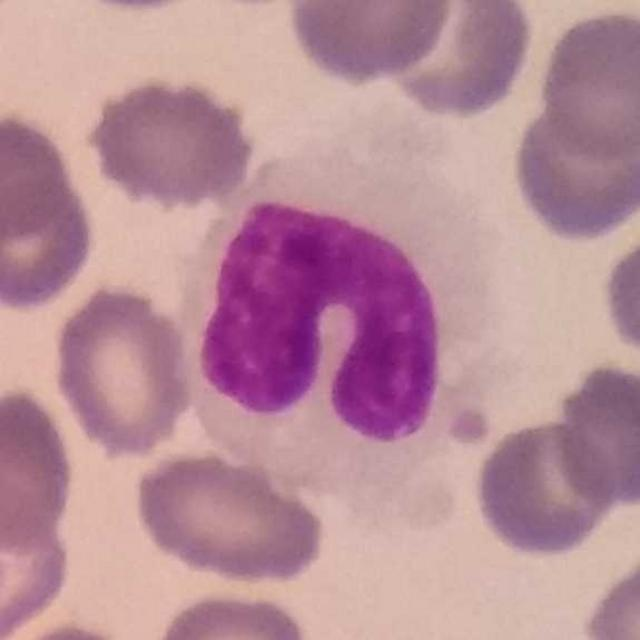Monocyte: (186, 123, 489, 516)
Platelets: (439, 399, 504, 457)
RBC: (129, 446, 331, 588), (49, 280, 199, 460), (84, 70, 260, 212), (470, 414, 620, 561), (506, 92, 640, 245), (375, 0, 538, 122), (532, 3, 640, 165), (283, 0, 457, 87), (0, 167, 100, 314), (547, 359, 640, 510), (0, 384, 79, 553), (0, 481, 76, 640), (0, 108, 80, 244), (147, 586, 316, 640), (596, 212, 640, 371), (577, 545, 640, 639), (0, 619, 148, 640), (55, 0, 222, 17)
